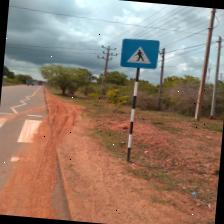blueboard: (119, 37, 161, 70)
crossing: (16, 118, 42, 144)
